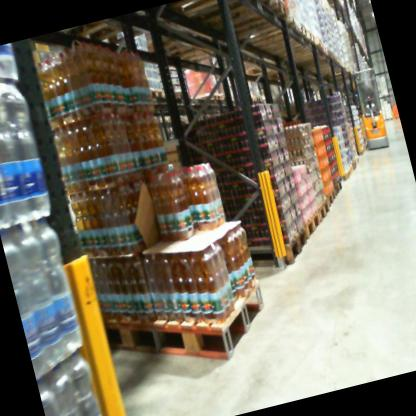pallet: (146, 270, 292, 382), (101, 292, 186, 371), (52, 10, 155, 63), (234, 220, 313, 275), (146, 15, 216, 72), (174, 0, 276, 38), (210, 0, 293, 43), (297, 207, 325, 241), (309, 196, 335, 226), (145, 79, 169, 104), (326, 178, 348, 200), (321, 183, 340, 208), (197, 88, 222, 106), (338, 165, 354, 184), (386, 114, 394, 123), (393, 114, 400, 121)
pallet_truck: (348, 57, 395, 156)
